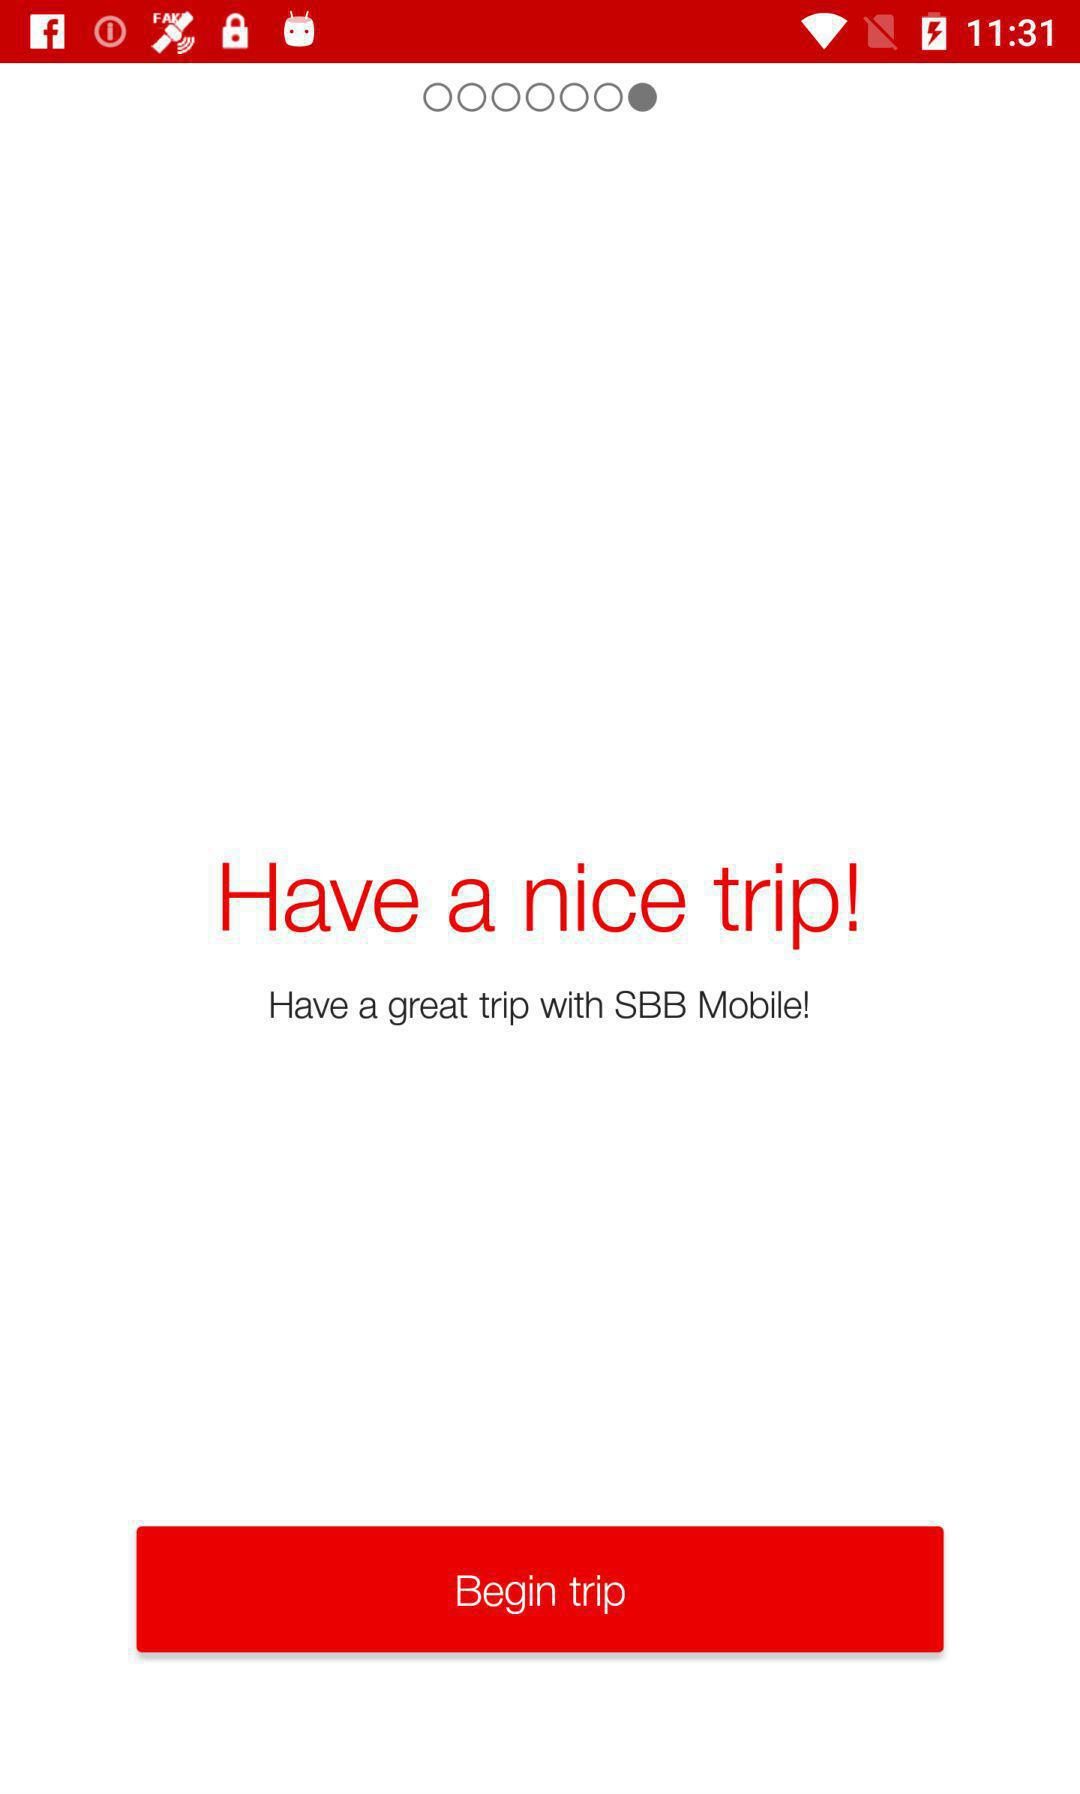PageIndicator: (421, 82, 659, 115)
Text: (223, 862, 858, 950), (272, 991, 808, 1028)
TextButton: (137, 1525, 944, 1653)
UpperTaskBar: (1, 1, 1080, 64)
